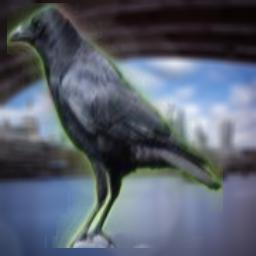Crow: (7, 3, 223, 248)
